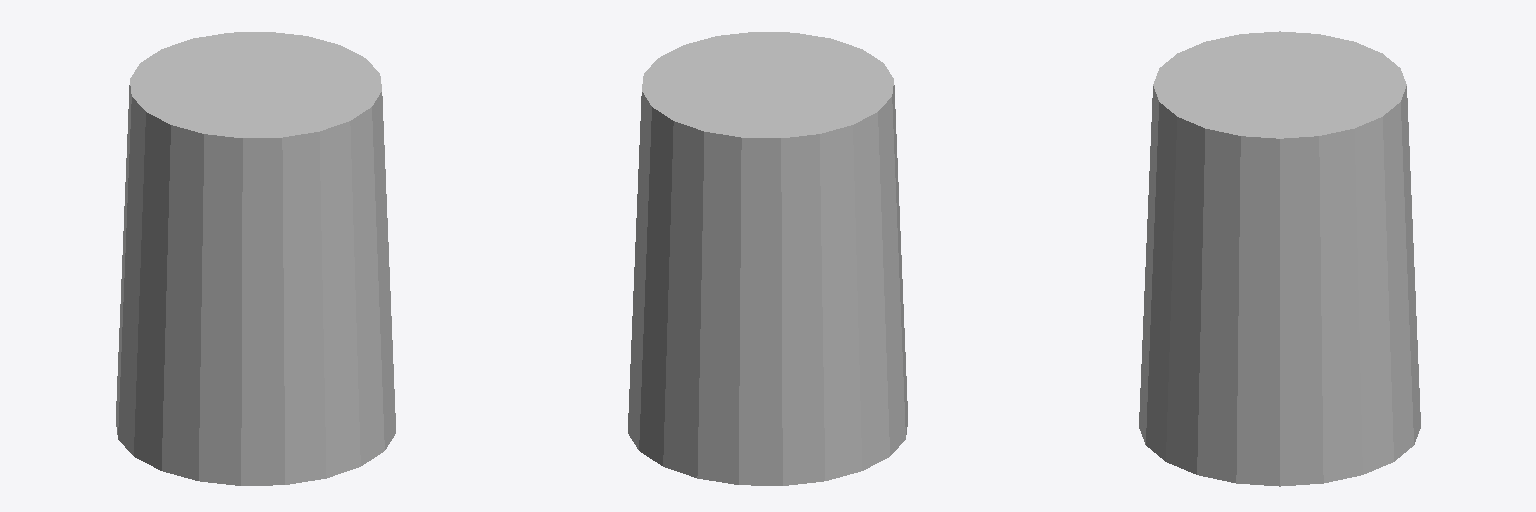
Rendered from branch.obj.
3 views of the same model, side by side, from view 1: azimuth 30°, elevation 25°; view 2: azimuth 150°, elevation 25°; view 3: azimuth 270°, elevation 25° (orthographic).
Visible parts, largest first — view 1: pCylinder1; view 2: pCylinder1; view 3: pCylinder1.
Boxes of the visible parts, x1,y1,x2,y2 form: pCylinder1: [116, 32, 395, 485]; pCylinder1: [628, 32, 907, 485]; pCylinder1: [1139, 31, 1420, 486].
Size of the model in its own units: 2 by 2.67 by 2.